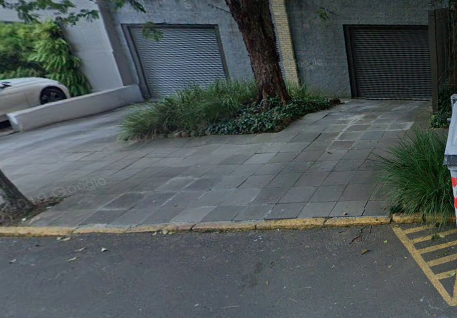vag12: (50, 181, 403, 274)
